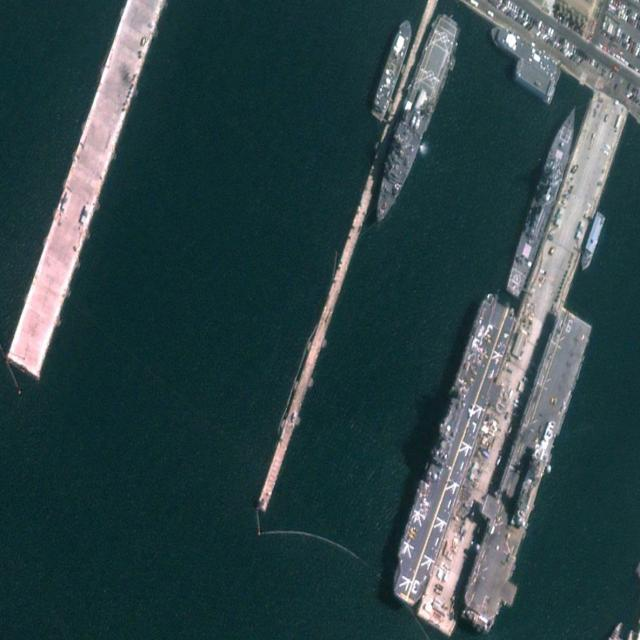Destroyer: (503, 99, 583, 300)
Landing: (449, 297, 602, 639), (381, 285, 521, 610), (366, 6, 464, 234)
Other Ship: (369, 14, 416, 122), (488, 23, 562, 86), (577, 210, 605, 273)
